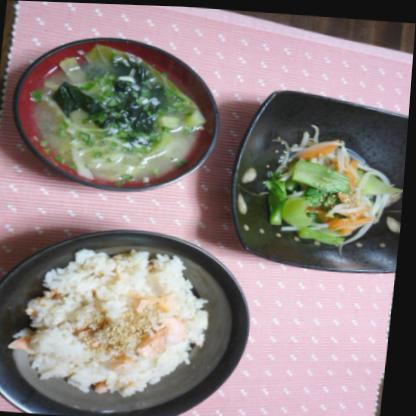miso soup: (13, 39, 224, 188)
mixed rice: (9, 232, 248, 405)
